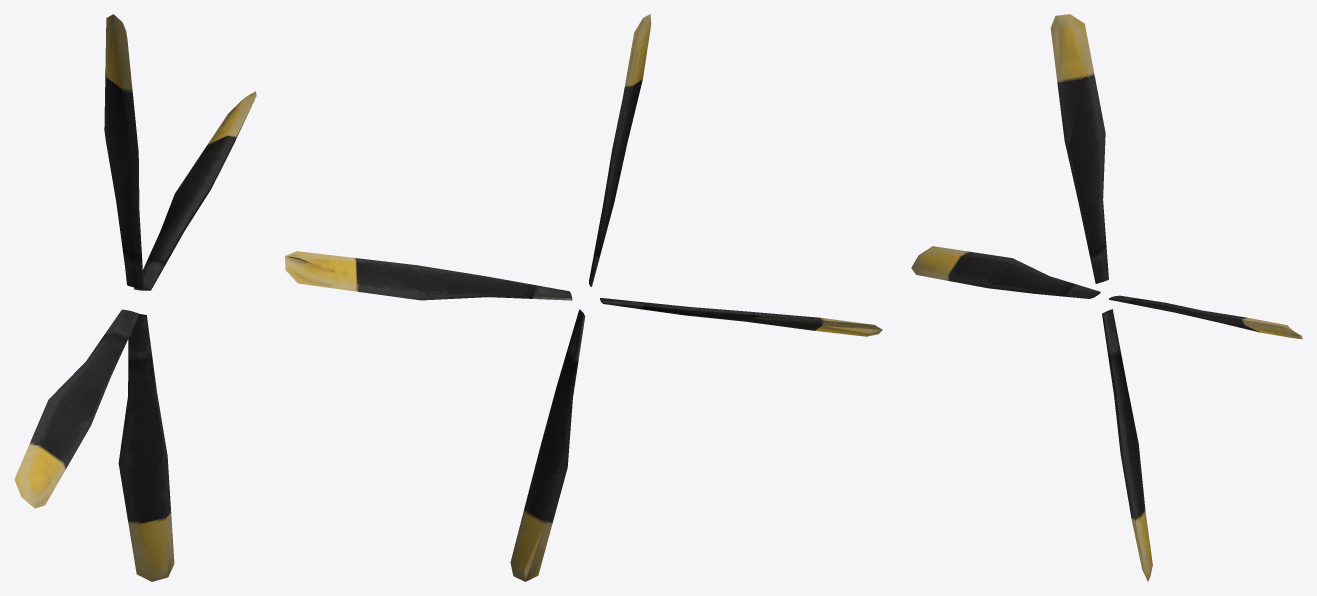
Rendered from Elice.obj.
The picture shows the model from 3 angles, left to right: view 1: azimuth 30°, elevation 25°; view 2: azimuth 150°, elevation 25°; view 3: azimuth 270°, elevation 25°; orthographic projection. The views are drawn at different scales.
Parts seen in each view (by area): view 1: Object001.027_Untitled.038; view 2: Object001.027_Untitled.038; view 3: Object001.027_Untitled.038.
Part boxes in pixels (x1,y1,x2,y2): Object001.027_Untitled.038: (14, 14, 256, 581); Object001.027_Untitled.038: (285, 14, 882, 581); Object001.027_Untitled.038: (911, 14, 1302, 581).
Size of the model in its own units: 17.23 by 22.56 by 15.17.
Materials: 1 (1 with a texture image).
